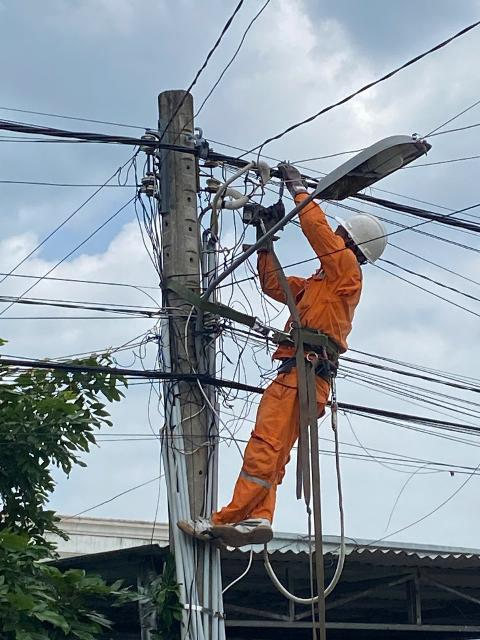gloves: (262, 147, 311, 196), (247, 205, 287, 254)
harness: (273, 322, 352, 380)
helmet: (321, 196, 398, 270)
shoes: (174, 509, 236, 545), (210, 518, 279, 542)
